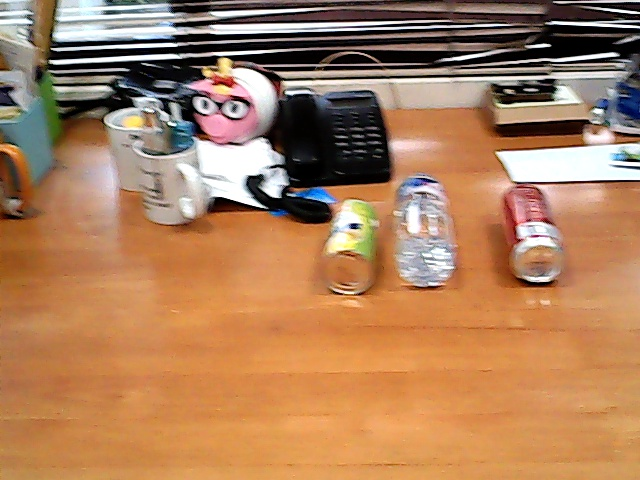Cola: (484, 167, 576, 304)
Pine Juice: (309, 190, 388, 300)
Summit Water: (382, 170, 471, 301)
